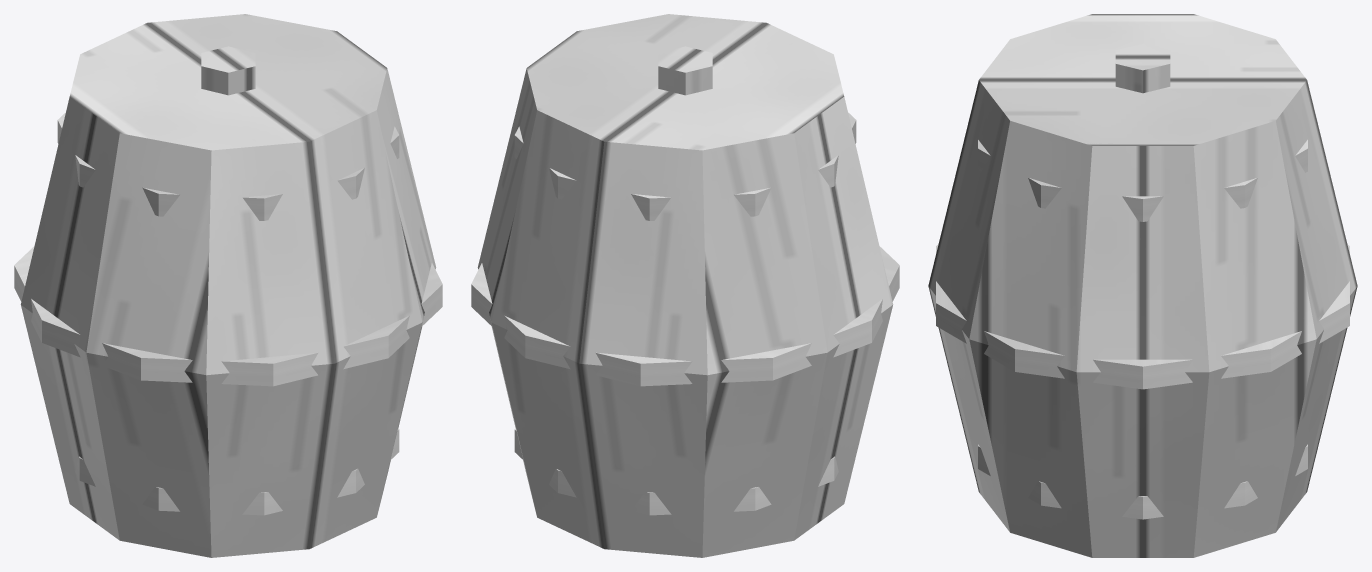
Rendered from barrel.obj.
The picture shows the model from 3 angles, left to right: view 1: azimuth 30°, elevation 25°; view 2: azimuth 150°, elevation 25°; view 3: azimuth 270°, elevation 25°; orthographic projection.
Parts seen in each view (by area): view 1: barrel; view 2: barrel; view 3: barrel.
Boxes of the visible parts, <box> form: barrel: <box>14,14,442,557</box>; barrel: <box>471,14,899,557</box>; barrel: <box>928,14,1357,557</box>.
Size of the model in its own units: 0.69 by 0.76 by 0.68.
